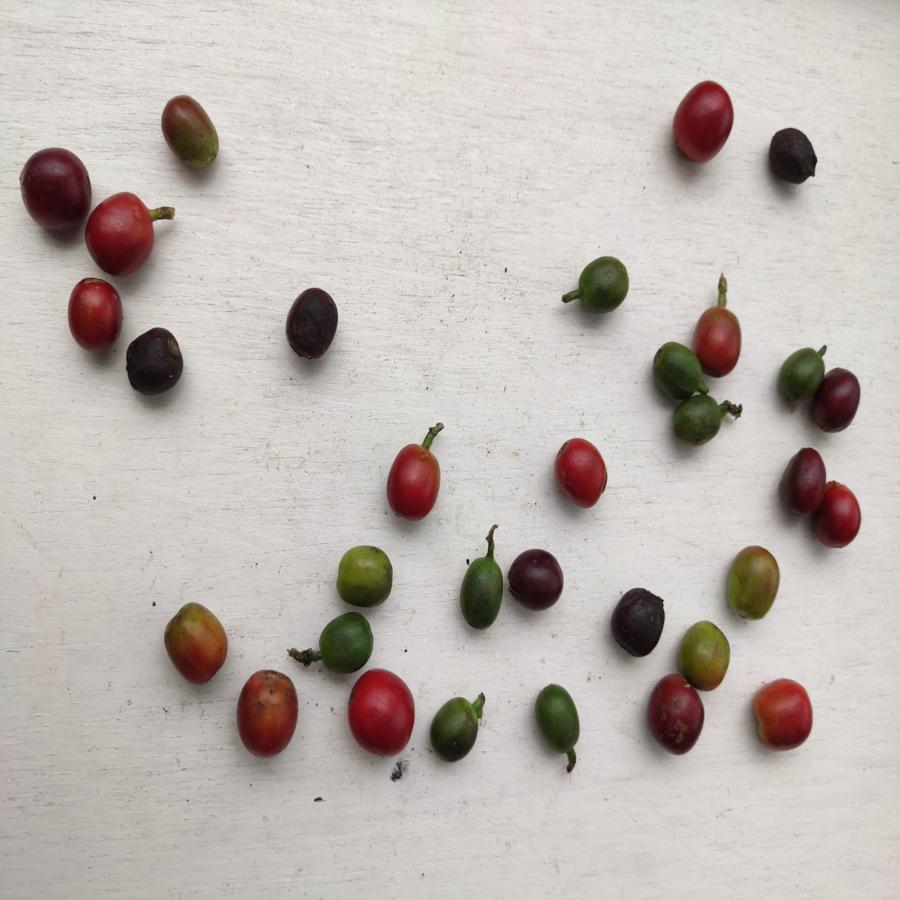Inmaduro: (575, 254, 633, 320), (532, 680, 585, 752), (314, 614, 378, 671), (429, 695, 481, 764), (460, 554, 502, 631), (672, 394, 724, 450), (653, 341, 699, 396), (776, 348, 817, 407)
Maduro: (347, 670, 419, 754), (84, 191, 152, 278), (669, 80, 735, 166), (752, 674, 815, 755), (382, 439, 439, 522), (554, 438, 609, 511), (66, 278, 125, 346), (694, 306, 746, 376), (817, 477, 863, 550)
Pinton: (235, 666, 303, 762), (164, 599, 229, 686), (159, 93, 223, 172), (726, 545, 780, 623), (335, 543, 393, 610), (679, 620, 730, 689)
Sobremaduro: (15, 143, 91, 232), (643, 673, 707, 754), (124, 325, 188, 397), (609, 584, 664, 661), (284, 285, 340, 360), (507, 546, 566, 609), (764, 127, 822, 189), (815, 369, 859, 438)
